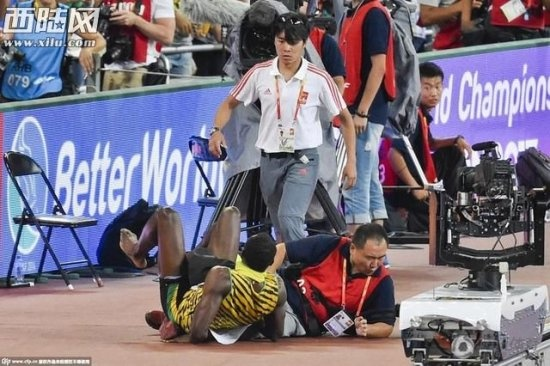falling: (117, 193, 260, 353)
